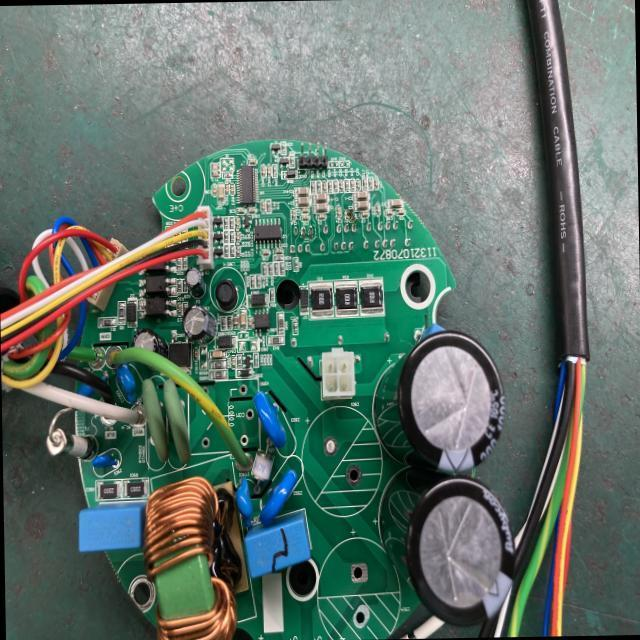damged: (343, 209, 354, 220)
